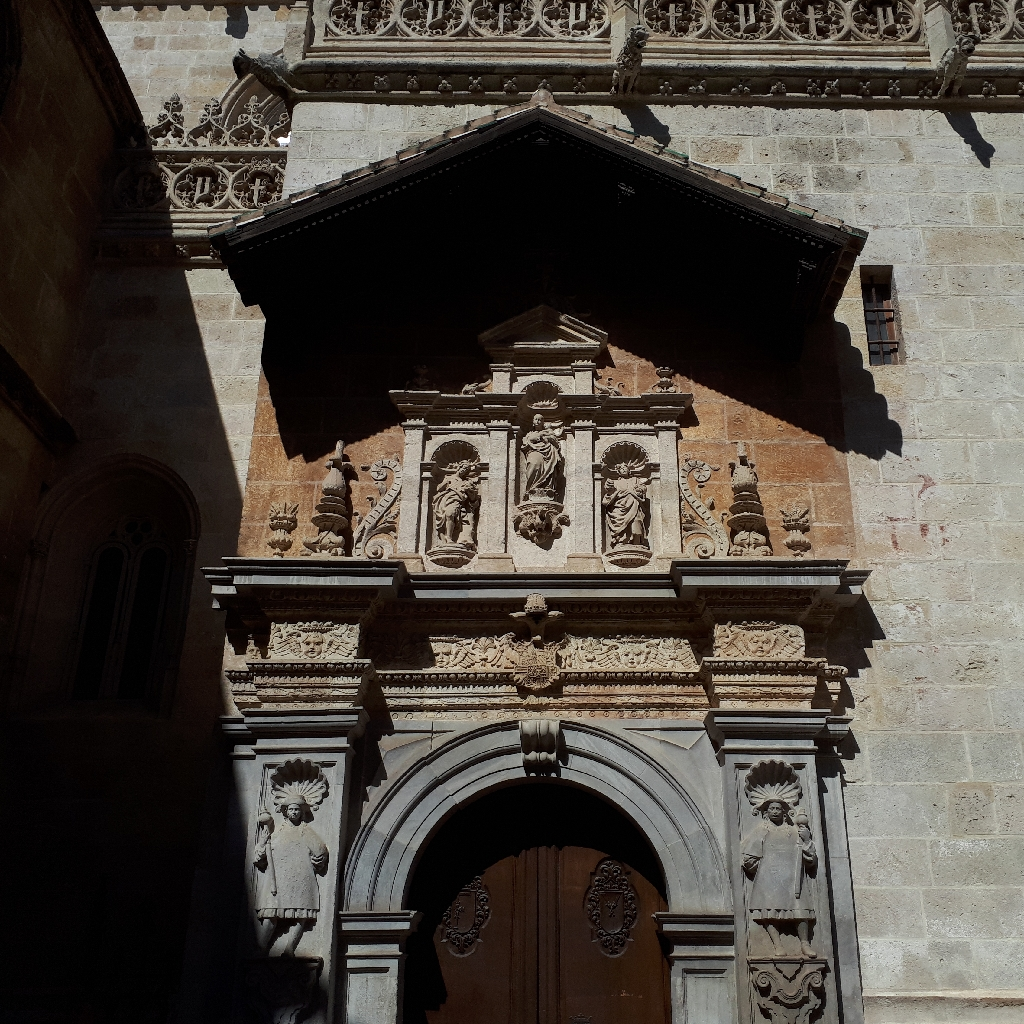arco-medio-punto: (379, 755, 693, 986)
fronton: (476, 300, 613, 353)
